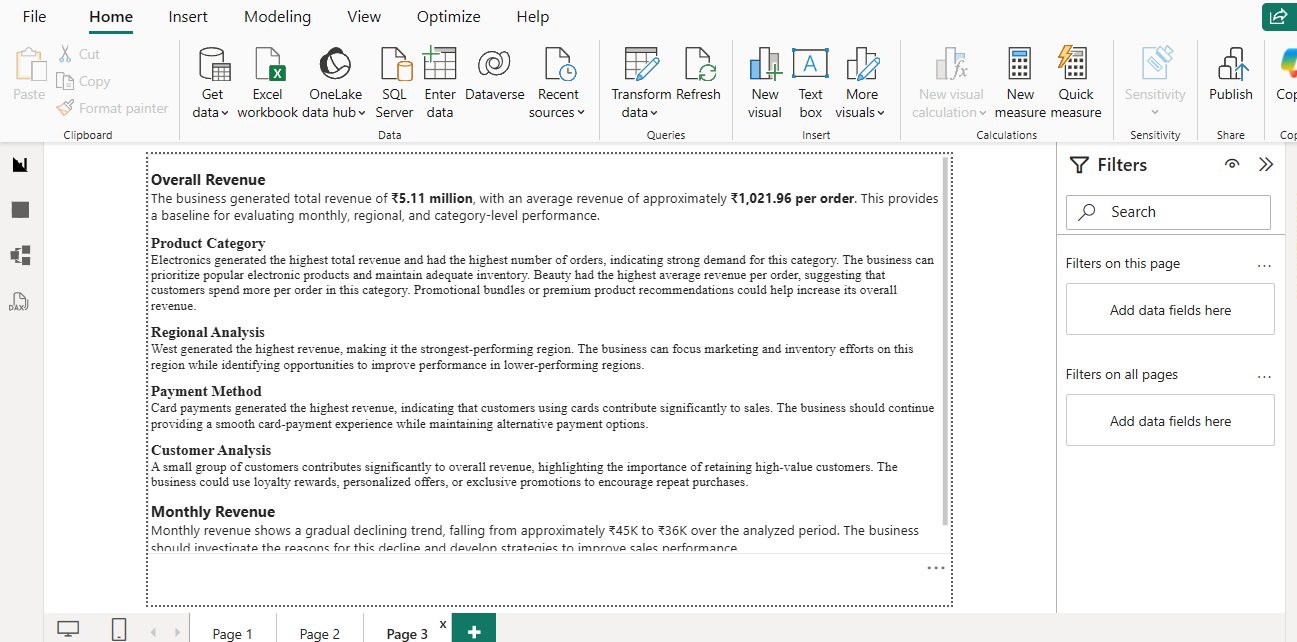

This screenshot's page, from the dashboard's own definition file:
{"tool":"powerbi","page":{"name":"Page 3","canvas":[1280,720],"ordinal":2},"visuals":[{"type":"textbox","box":[0,0,1280.8,638.2],"z":0}]}

Visuals, with their boxes on the page's 1280x720 design canvas (x1, y1, x2, y2). These are canvas units, not pixel positions in the 1297x642 screenshot, which may show the page scaled, cropped or inside an application window:
textbox: rect(0, 0, 1281, 638)
